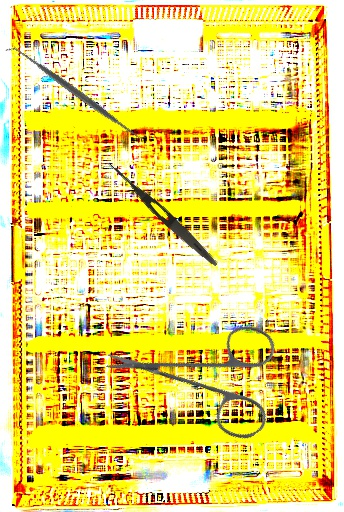Dressing Forceps: (101, 157, 222, 270)
Iris Scissors: (101, 271, 312, 482)
Spatula Surgical: (4, 37, 149, 149)
